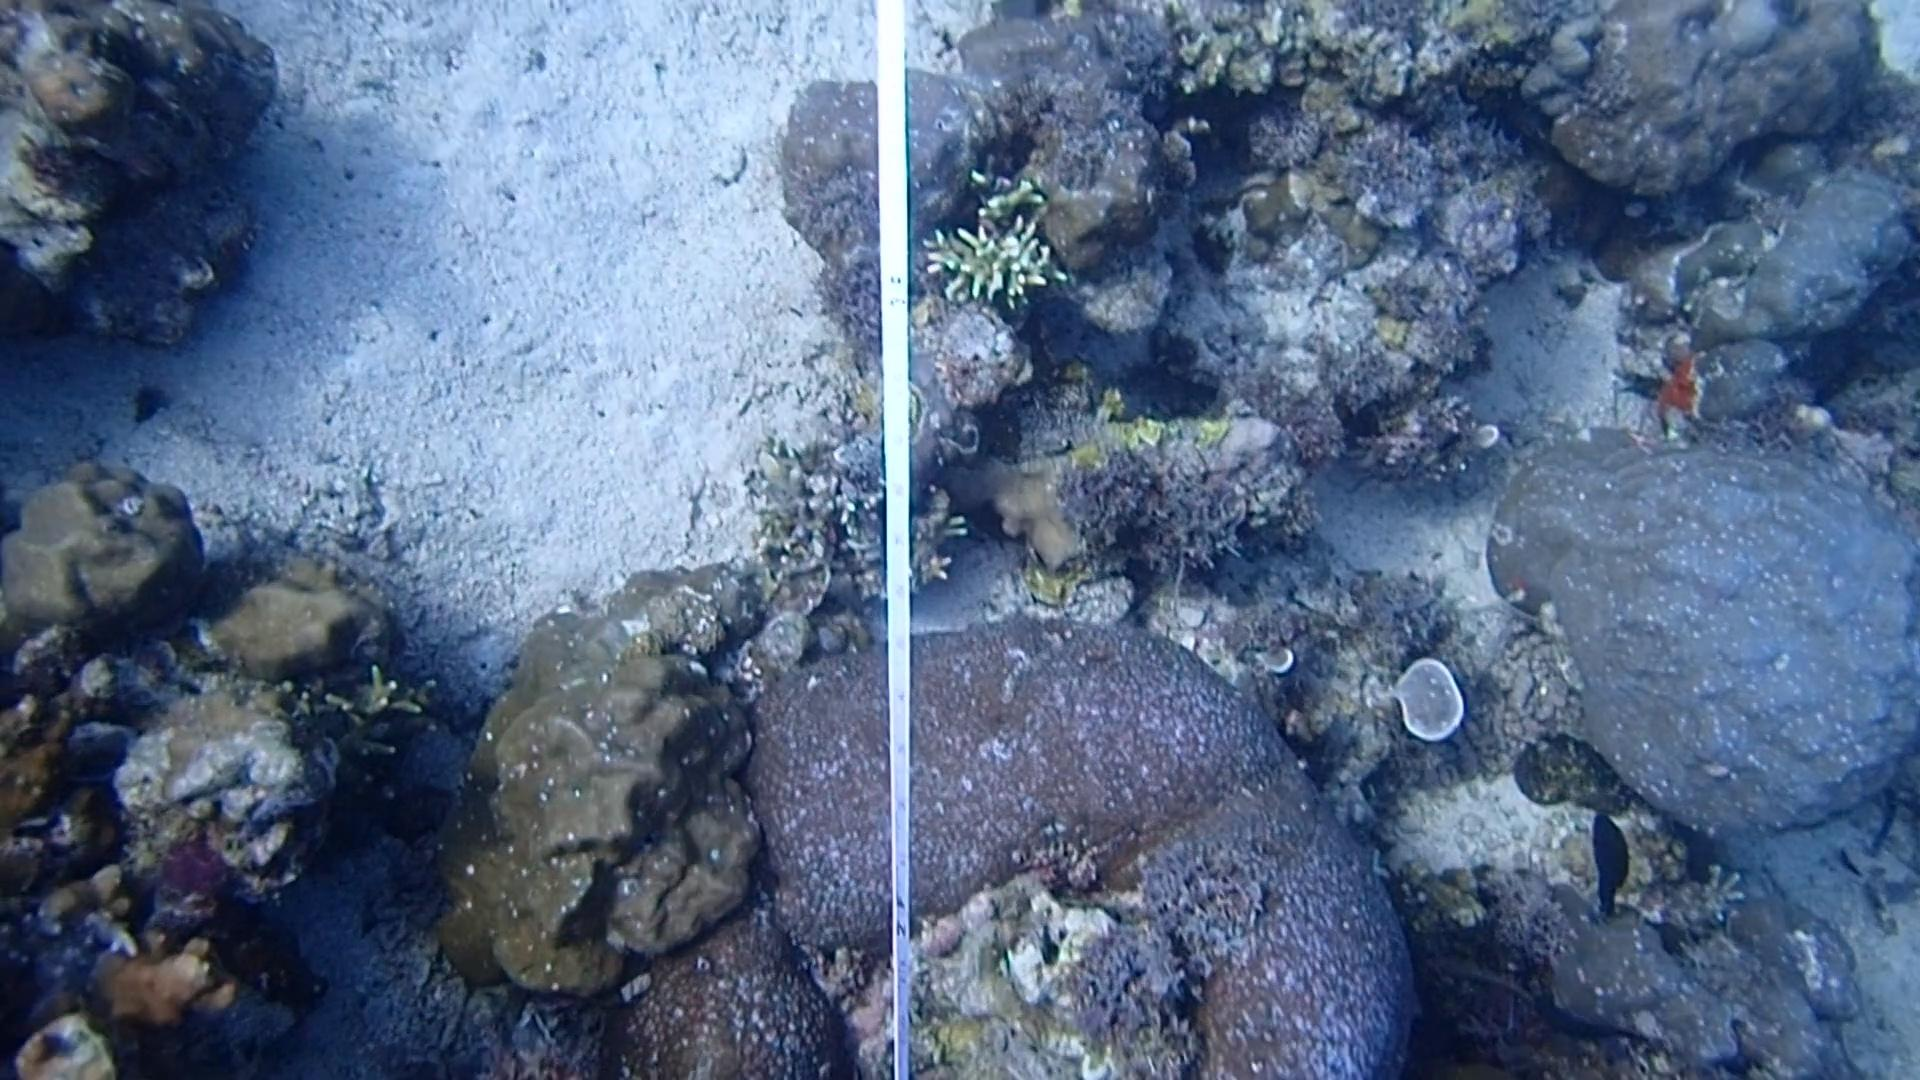Dark Fish: (1571, 803, 1648, 920)
